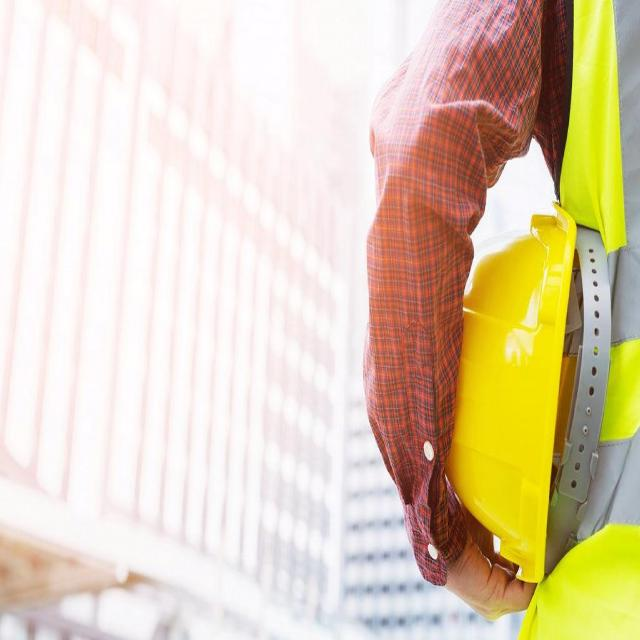Reflective-Jacket: (523, 1, 639, 640)
Safety-Helmet: (454, 191, 627, 593)
